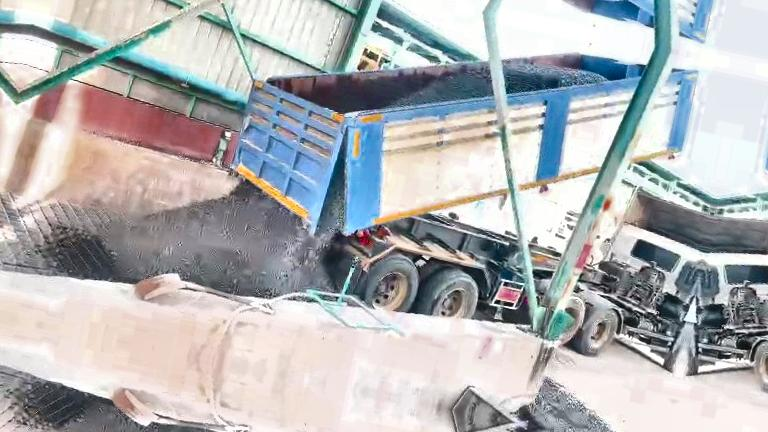gravel: (106, 182, 333, 297), (521, 378, 621, 432), (390, 64, 492, 106), (503, 61, 606, 94), (316, 160, 344, 240)
